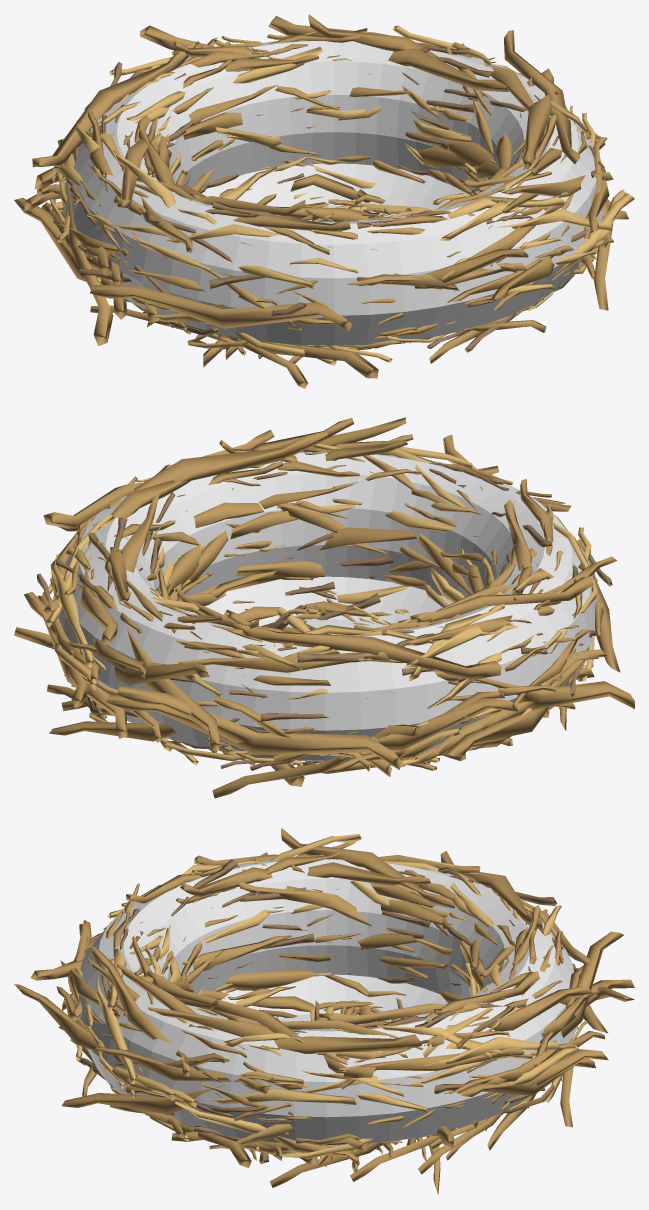
Rendered from nest_low.fbx.
The picture shows the model from 3 angles, top to bottom: view 1: azimuth 30°, elevation 25°; view 2: azimuth 150°, elevation 25°; view 3: azimuth 270°, elevation 25°; orthographic projection. The views are drawn at different scales.
Parts seen in each view (by area): view 1: Torus, Torus|Cube|Dupli|642, Torus|Cube|Dupli|424, Torus|Cube|Dupli|90, Torus|Cube|Dupli|543, Torus|Cube|Dupli|109, Torus|Cube|Dupli|674, Torus|Cube|Dupli|955, Torus|Cube|Dupli|547, Torus|Cube|Dupli|988, Torus|Cube|Dupli|726, Torus|Cube|Dupli|651 (+41 smaller); view 2: Torus, Torus|Cube|Dupli|356, Torus|Cube|Dupli|424, Torus|Cube|Dupli|955, Torus|Cube|Dupli|458, Torus|Cube|Dupli|543, Torus|Cube|Dupli|359, Torus|Cube|Dupli|529, Torus|Cube|Dupli|216, Torus|Cube|Dupli|387, Torus|Cube|Dupli|547, Torus|Cube|Dupli|324 (+44 smaller); view 3: Torus, Torus|Cube|Dupli|955, Torus|Cube|Dupli|988, Torus|Cube|Dupli|912, Torus|Cube|Dupli|529, Torus|Cube|Dupli|52, Torus|Cube|Dupli|852, Torus|Cube|Dupli|917, Torus|Cube|Dupli|117, Torus|Cube|Dupli|552, Torus|Cube|Dupli|621, Torus|Cube|Dupli|953 (+46 smaller).
Part boxes in pixels (bbox=[...]): Torus: bbox=[62, 40, 603, 345]; Torus|Cube|Dupli|642: bbox=[90, 285, 351, 331]; Torus|Cube|Dupli|424: bbox=[32, 41, 195, 167]; Torus|Cube|Dupli|90: bbox=[388, 48, 508, 91]; Torus|Cube|Dupli|543: bbox=[57, 138, 113, 345]; Torus|Cube|Dupli|109: bbox=[308, 14, 438, 57]; Torus|Cube|Dupli|674: bbox=[239, 338, 378, 378]; Torus|Cube|Dupli|955: bbox=[522, 68, 553, 169]; Torus|Cube|Dupli|547: bbox=[14, 197, 159, 322]; Torus|Cube|Dupli|988: bbox=[504, 30, 565, 108]; Torus|Cube|Dupli|726: bbox=[414, 249, 528, 288]; Torus|Cube|Dupli|651: bbox=[233, 215, 350, 231]; Torus: bbox=[53, 451, 597, 761]; Torus|Cube|Dupli|356: bbox=[106, 694, 402, 769]; Torus|Cube|Dupli|424: bbox=[232, 623, 501, 680]; Torus|Cube|Dupli|955: bbox=[58, 432, 327, 531]; Torus|Cube|Dupli|458: bbox=[273, 698, 518, 761]; Torus|Cube|Dupli|543: bbox=[433, 669, 634, 709]; Torus|Cube|Dupli|359: bbox=[117, 686, 391, 776]; Torus|Cube|Dupli|529: bbox=[369, 576, 592, 629]; Torus|Cube|Dupli|216: bbox=[93, 585, 219, 750]; Torus|Cube|Dupli|387: bbox=[212, 724, 421, 798]; Torus|Cube|Dupli|547: bbox=[445, 667, 594, 756]; Torus|Cube|Dupli|324: bbox=[177, 652, 390, 672]; Torus: bbox=[74, 859, 578, 1145]; Torus|Cube|Dupli|955: bbox=[144, 970, 375, 1077]; Torus|Cube|Dupli|988: bbox=[273, 1034, 421, 1053]; Torus|Cube|Dupli|912: bbox=[62, 1079, 269, 1114]; Torus|Cube|Dupli|529: bbox=[281, 828, 454, 908]; Torus|Cube|Dupli|52: bbox=[338, 1046, 524, 1071]; Torus|Cube|Dupli|852: bbox=[90, 946, 189, 1076]; Torus|Cube|Dupli|917: bbox=[95, 1047, 255, 1089]; Torus|Cube|Dupli|117: bbox=[426, 986, 593, 1039]; Torus|Cube|Dupli|552: bbox=[307, 862, 430, 885]; Torus|Cube|Dupli|621: bbox=[225, 969, 316, 990]; Torus|Cube|Dupli|953: bbox=[147, 1007, 299, 1036].
Size of the model in its own units: 278 by 98 by 305.
